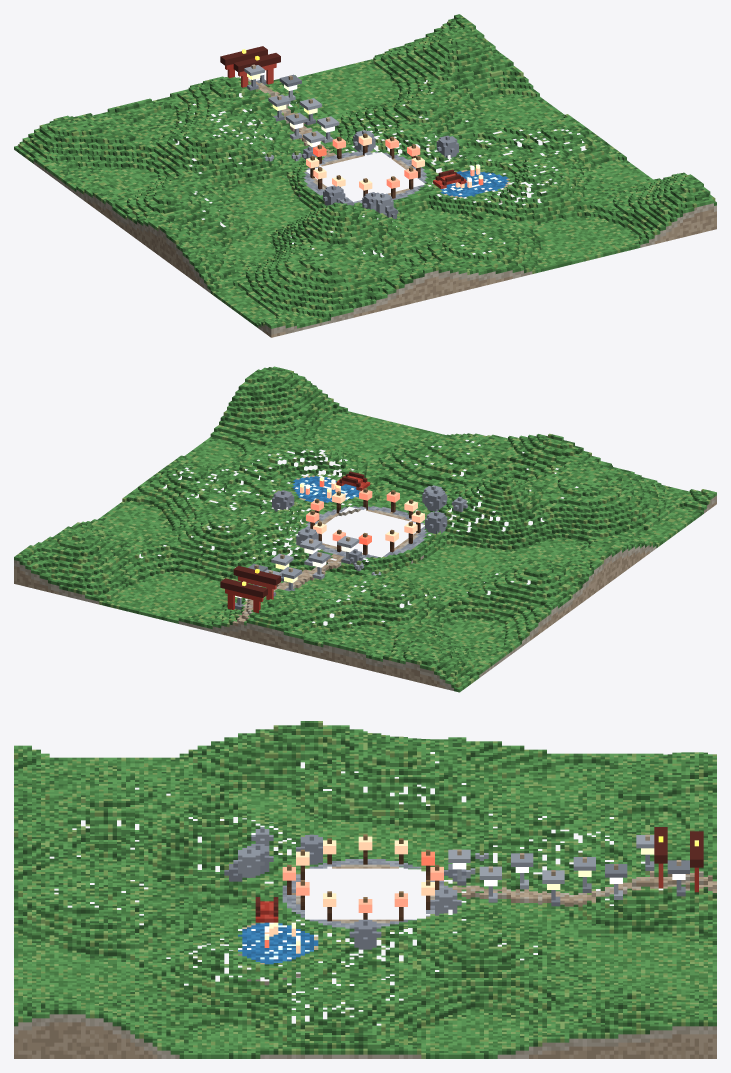
Rendered from garden.gltf.
3 views of the same model, one above another, from view 1: azimuth 30°, elevation 25°; view 2: azimuth 150°, elevation 25°; view 3: azimuth 270°, elevation 25° (orthographic). The views are drawn at different scales.
Parts seen in each view (by area): view 1: garden; view 2: garden; view 3: garden.
Boxes of the visible parts, x1,y1,x2,y2 form: garden: [14, 14, 716, 337]; garden: [14, 366, 716, 692]; garden: [14, 721, 716, 1058].
Size of the model in its own units: 157 by 19 by 157.
